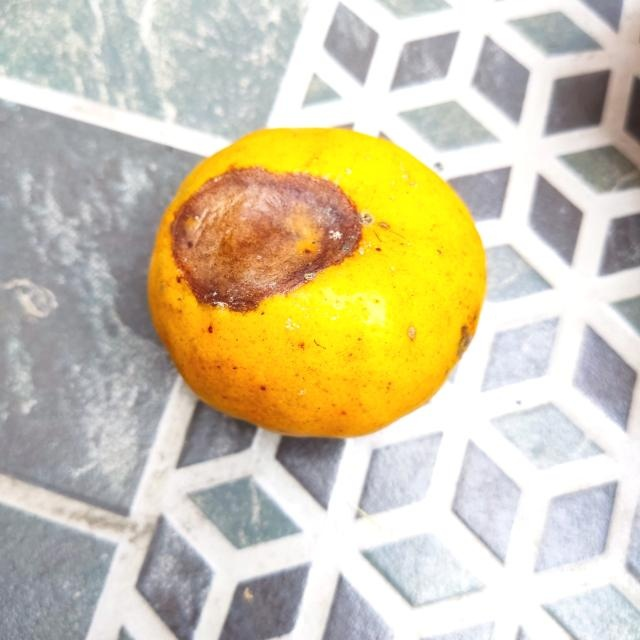agrume: (148, 125, 488, 436)
